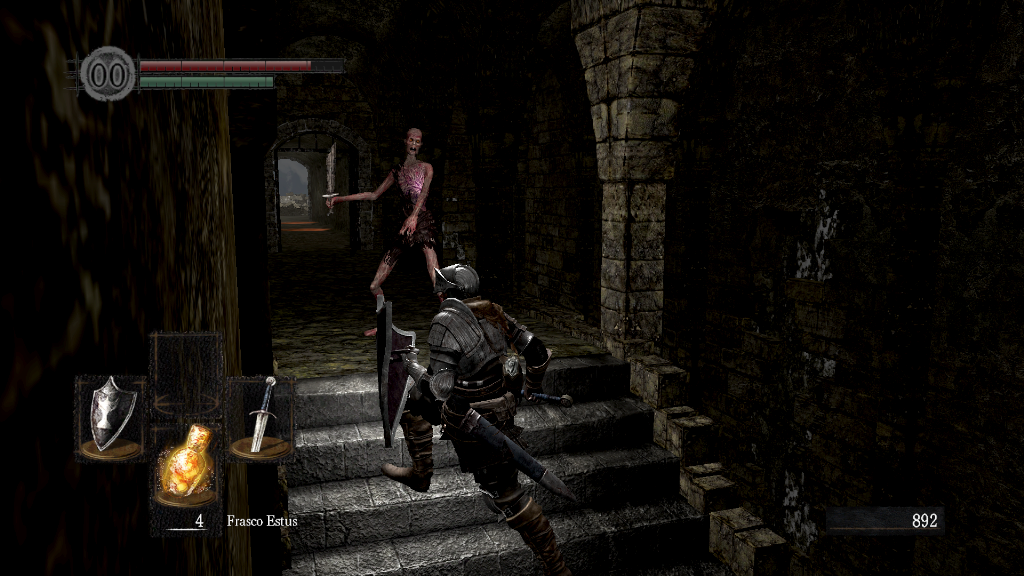health: (138, 58, 343, 71)
hollow: (335, 128, 456, 338)
humanity: (80, 45, 136, 102)
player: (375, 266, 579, 576)
souls: (825, 506, 945, 536)
stamina: (138, 74, 274, 88)
